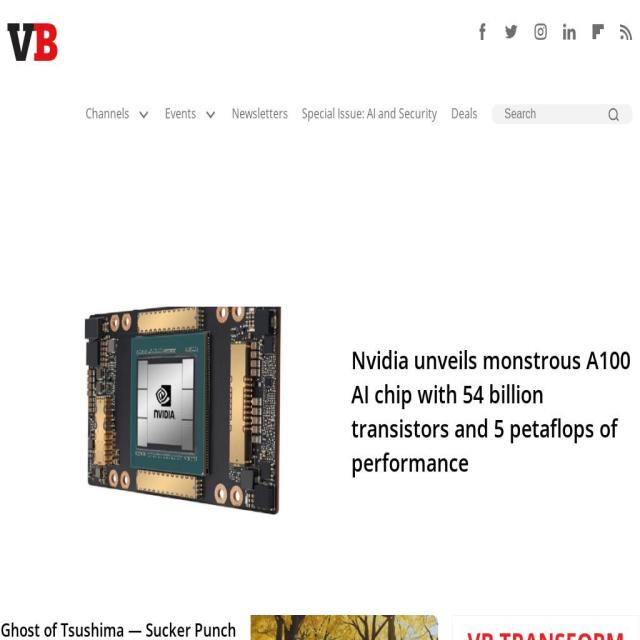button: (8, 306, 320, 556), (251, 615, 438, 640), (8, 23, 58, 65), (607, 104, 623, 124)
field: (492, 104, 608, 124)
heading: (351, 343, 631, 479), (0, 616, 236, 640), (467, 624, 624, 640)
iframe: (17, 174, 623, 248)
image: (8, 307, 320, 515), (251, 615, 438, 640), (8, 23, 58, 61), (476, 23, 489, 40), (505, 23, 518, 40), (534, 23, 547, 40), (563, 23, 576, 40), (592, 23, 604, 40), (620, 23, 632, 40), (607, 106, 619, 122)
link: (302, 104, 437, 123), (231, 104, 288, 123), (451, 104, 478, 123)
text: (86, 104, 132, 123), (164, 104, 199, 123)
